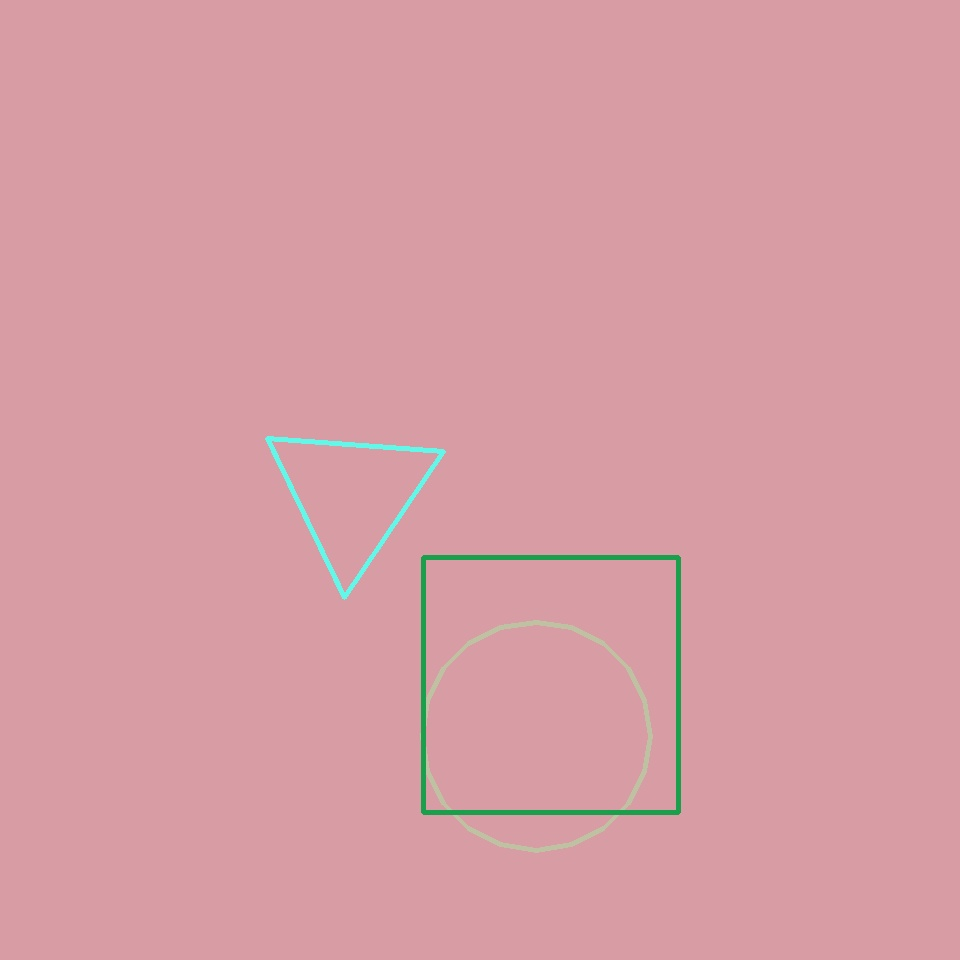circle: (264, 417, 440, 576)
square: (424, 558, 678, 812)
triangle: (422, 622, 650, 850)
